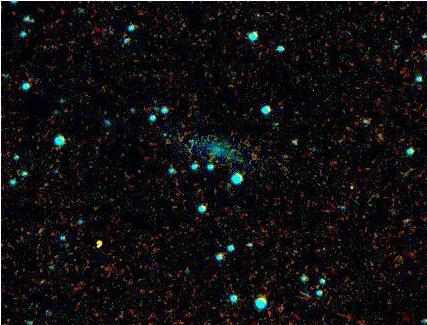star: (84, 229, 114, 259)
